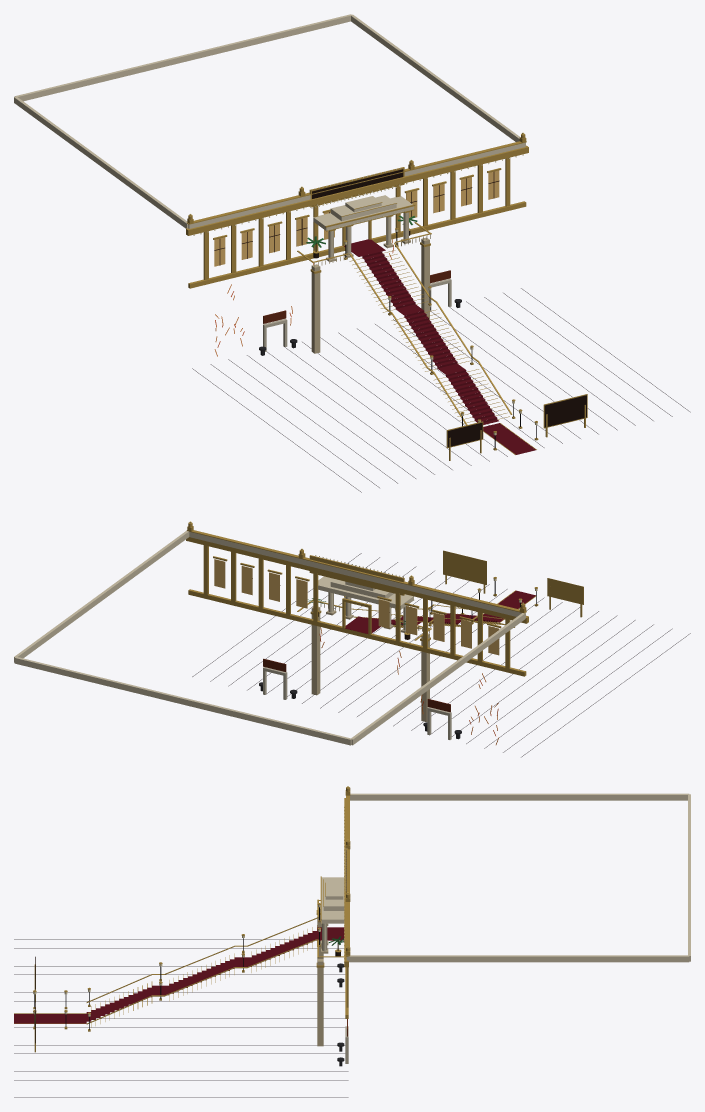
Rendered from lb_bake_out.glb.
3 views of the same model, one above another, from view 1: azimuth 30°, elevation 25°; view 2: azimuth 150°, elevation 25°; view 3: azimuth 270°, elevation 25° (orthographic).
Bounding box in the file's own units: 74.6 × 32.4 × 130.
